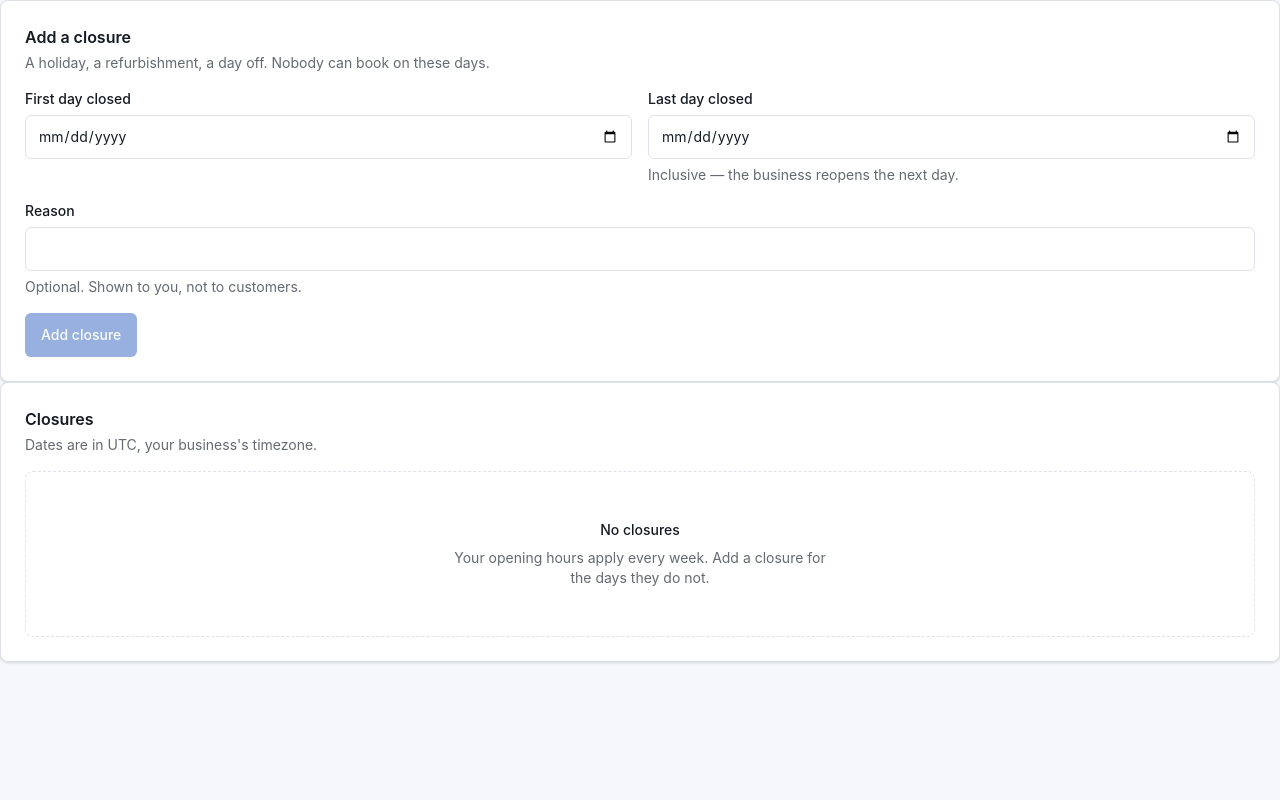
Scenario: ClosuresScreen, when a write is refused › banners the server sentence when the add is refused
The image size is (1280, 800).
Type "2026-12-24" into the date field labelled "First day closed" at (328, 137), box [25,115,632,159]
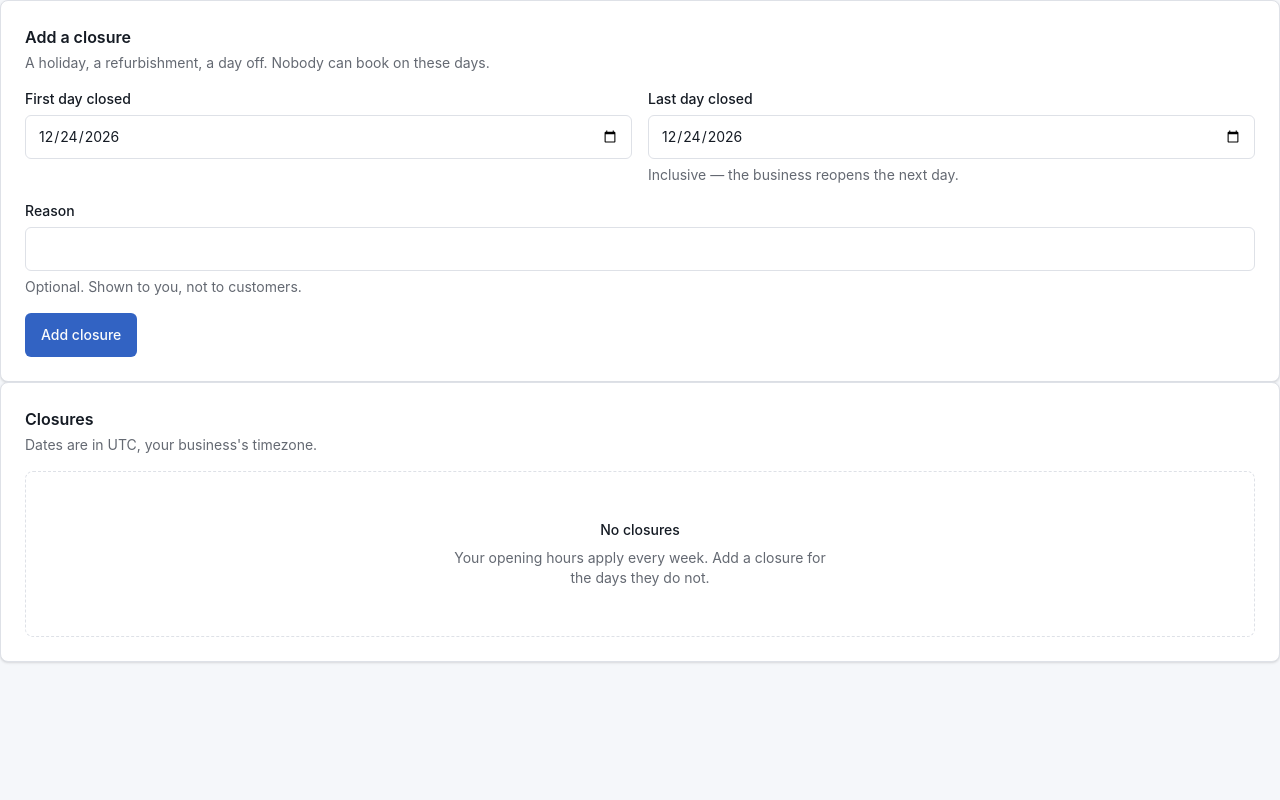
Type "2026-12-26" into the date field labelled "Last day closed" at (952, 137), box [648,115,1255,159]
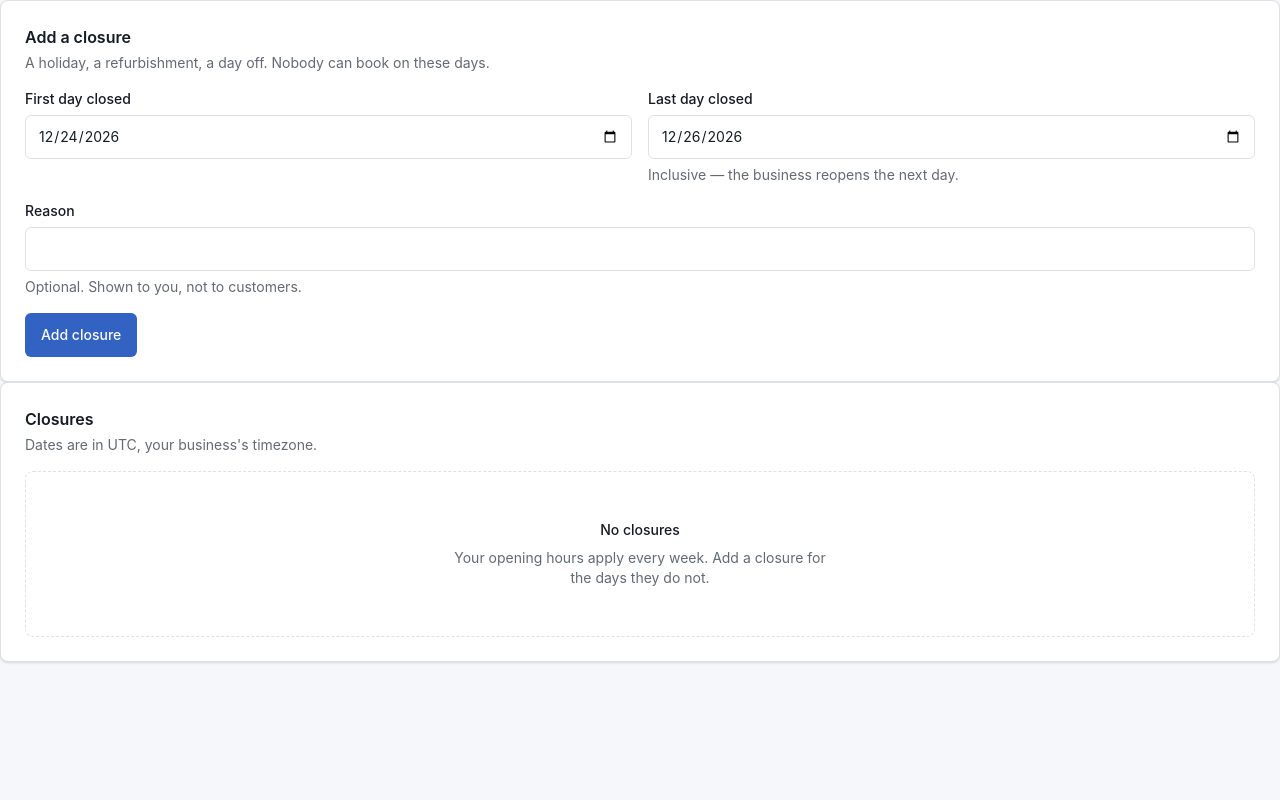
Click the button "Add closure" at (81, 335), box [25,313,137,357]
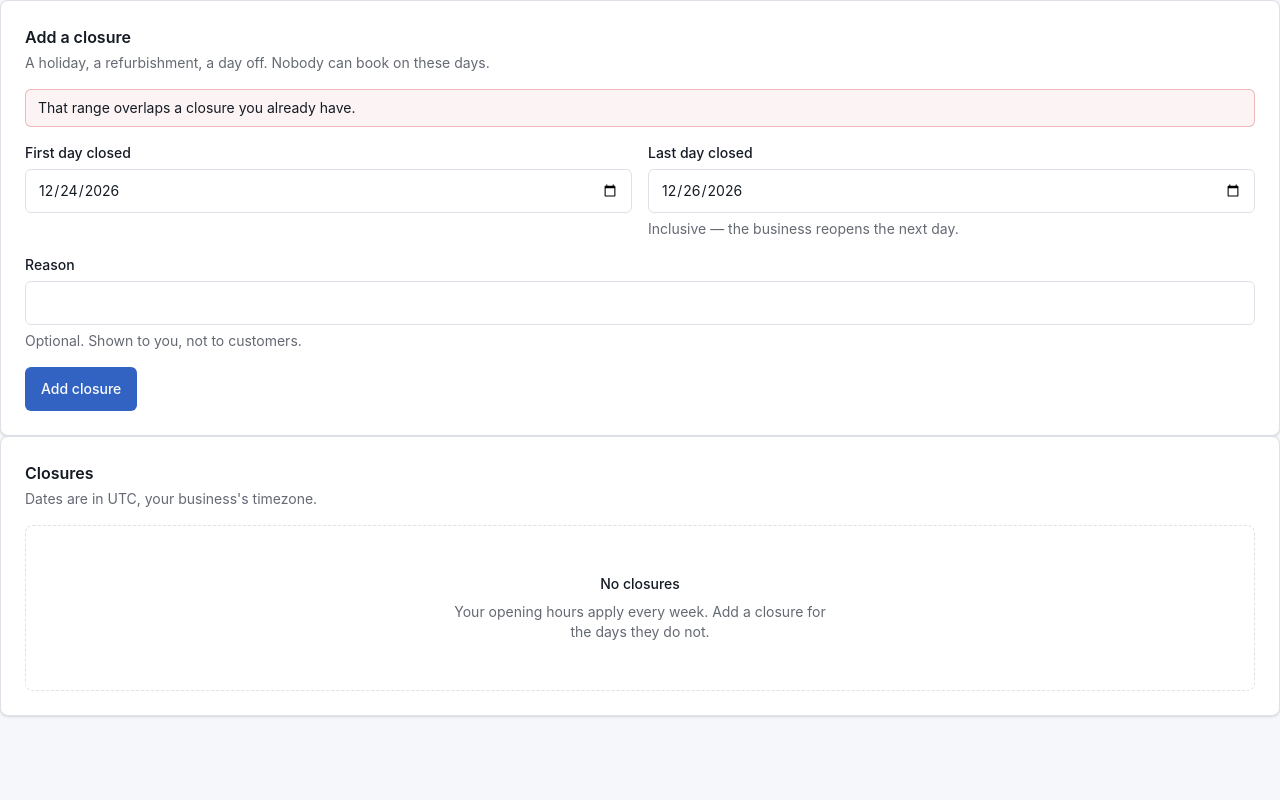
Result: the message reads "That range overlaps a closure you already have." at [38,99,356,116]
